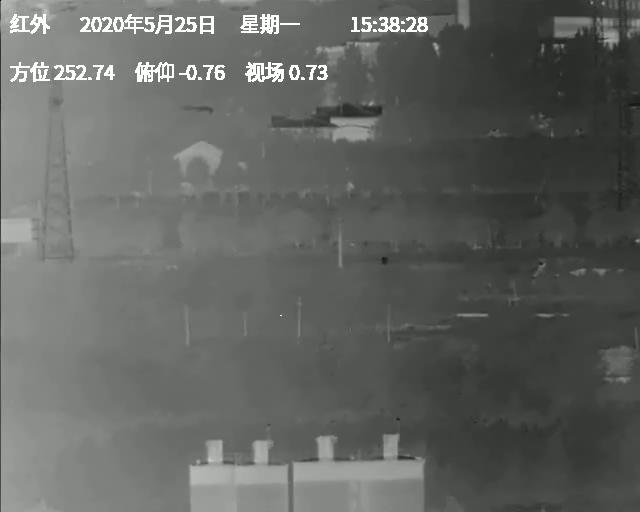uav: (349, 242, 356, 248)
